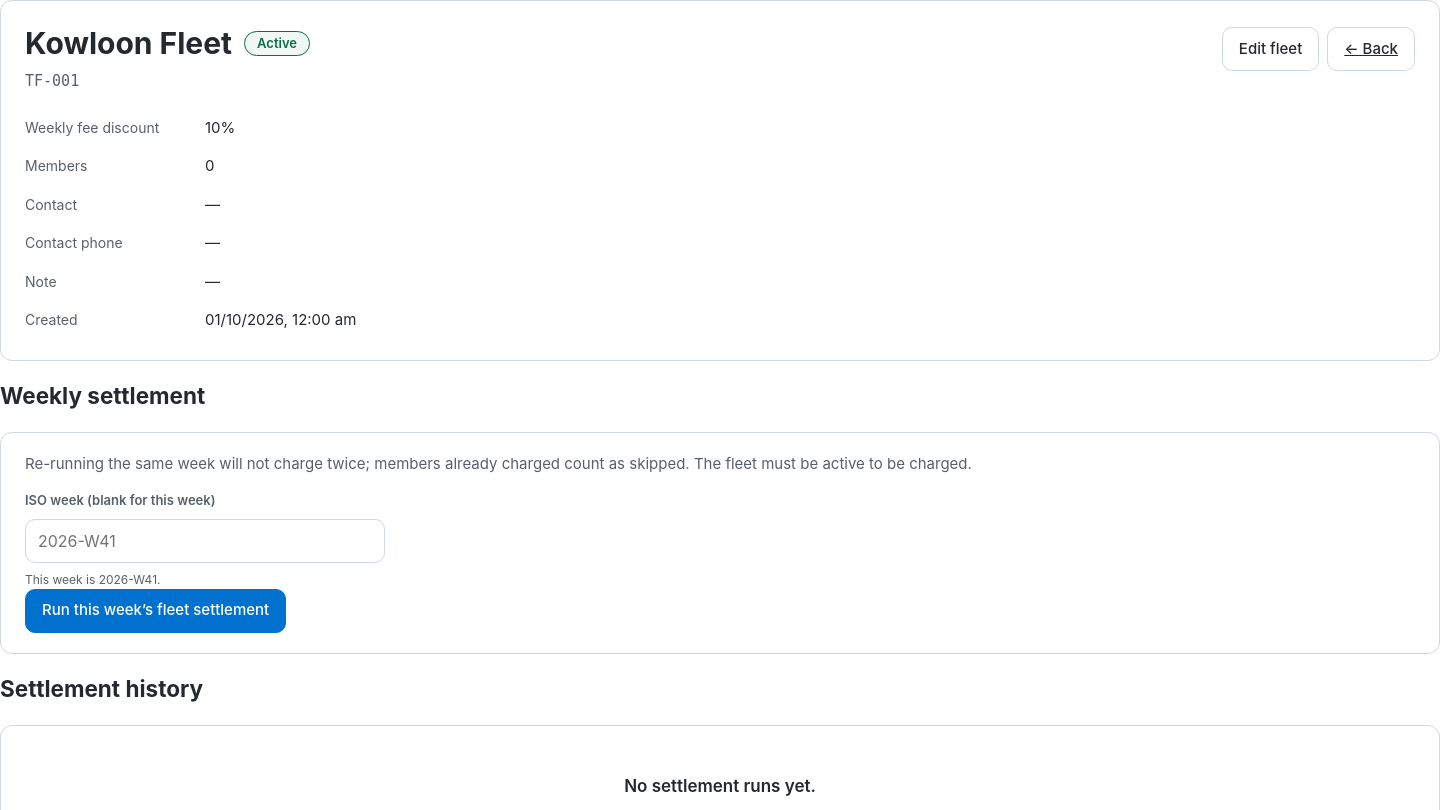
Test case: the fleet settlement lever › closes on Escape without running the settlement
The width and height of the screenshot is (1440, 810).
Click the button "Run this week’s fleet settlement". click: {"x": 156, "y": 611}
box: [25,589,286,633]
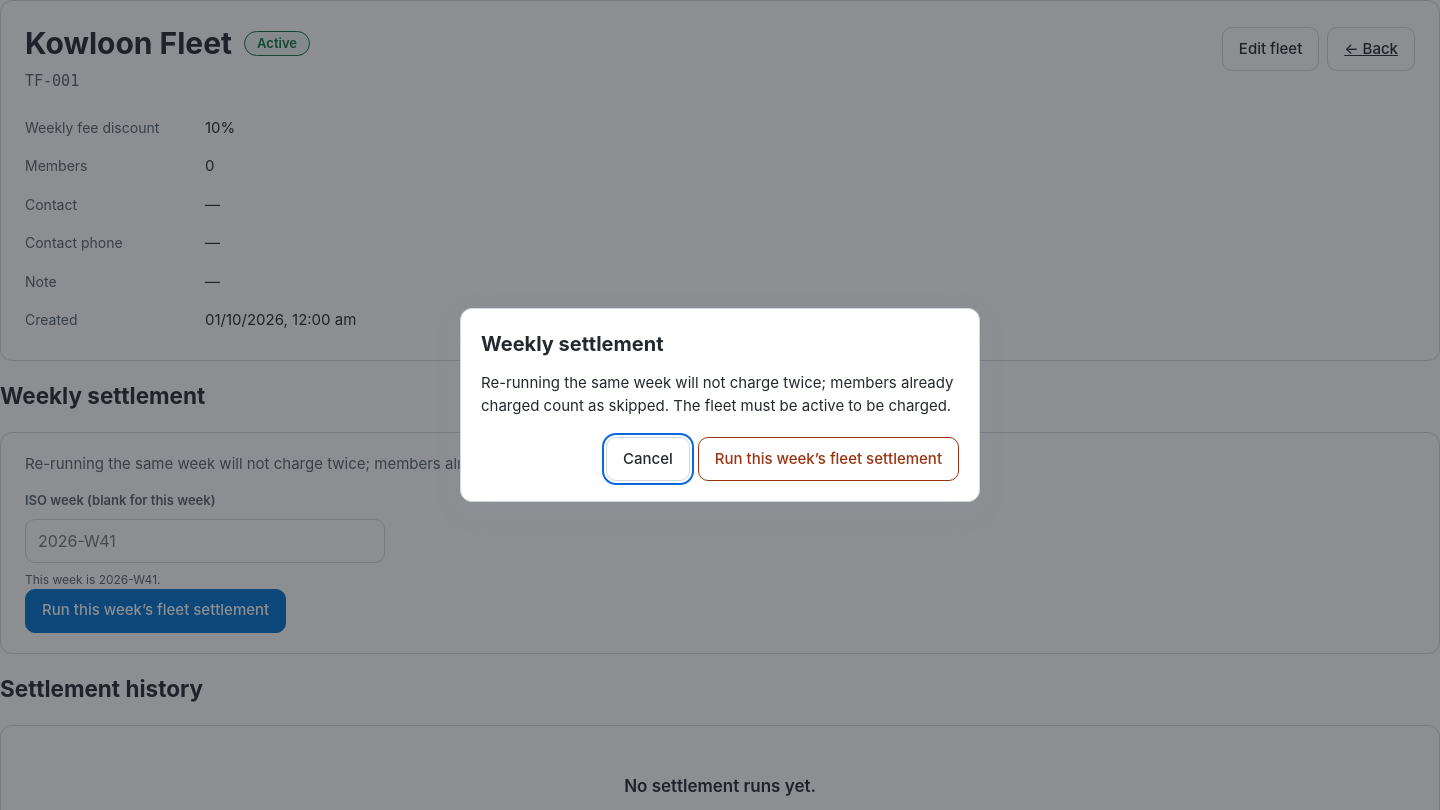
Expected: the dialog with class "modal" is shown
Press Escape in the dialog with class "modal", box [460,308,980,502]
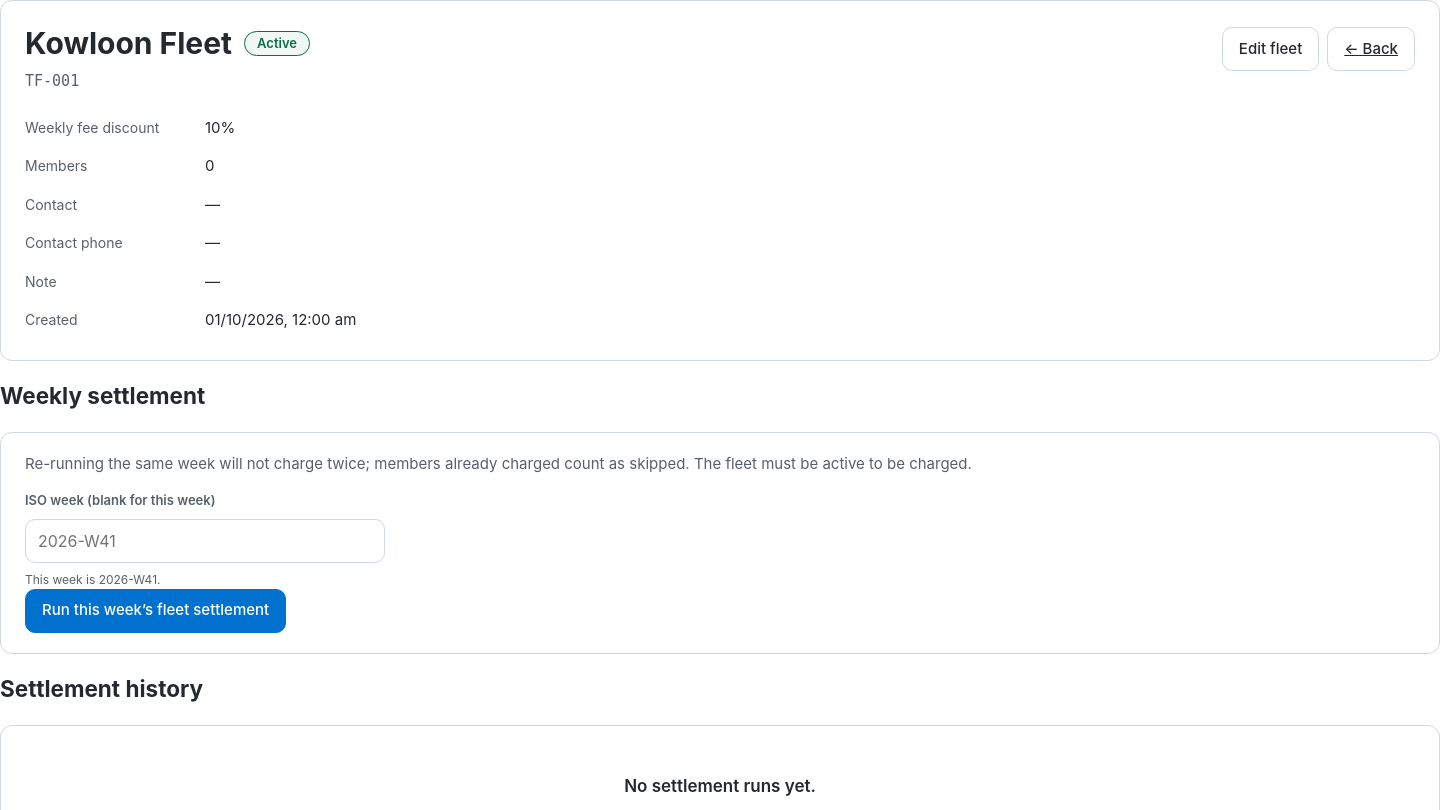
Expected: the dialog with class "modal" is gone
